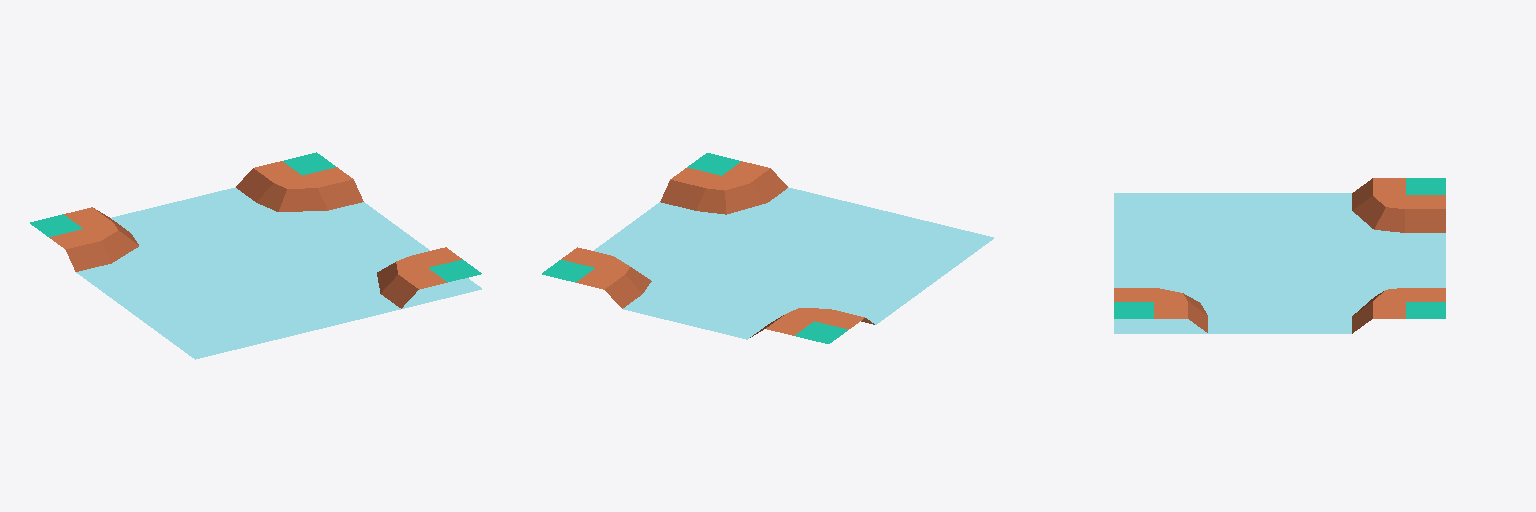
File: ground_riverBendOpen.obj
3 renders of one model, left to right at view 1: azimuth 30°, elevation 25°; view 2: azimuth 150°, elevation 25°; view 3: azimuth 270°, elevation 25°, orthographic.
Visible parts, largest first — view 1: ground_riverSideOpen; view 2: ground_riverSideOpen; view 3: ground_riverSideOpen.
Part boxes in pixels (x1,y1,x2,y2): ground_riverSideOpen: (30,152,481,359); ground_riverSideOpen: (542,153,993,343); ground_riverSideOpen: (1114,178,1445,333).
Bounding box in the file's own units: 1 × 0.05 × 1.